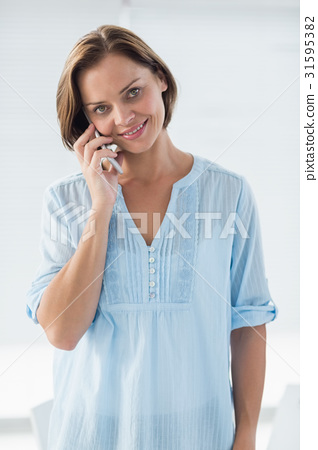phone: (67, 110, 124, 182)
talk: (65, 70, 166, 193)
